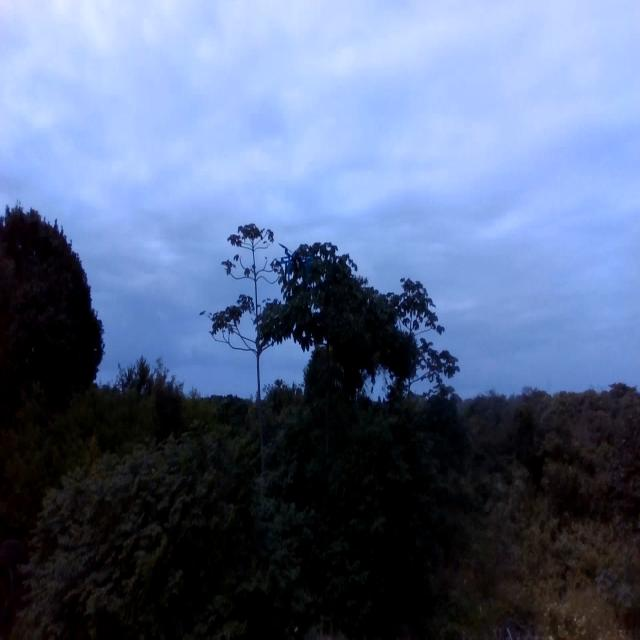-uav-: (272, 234, 324, 305)
